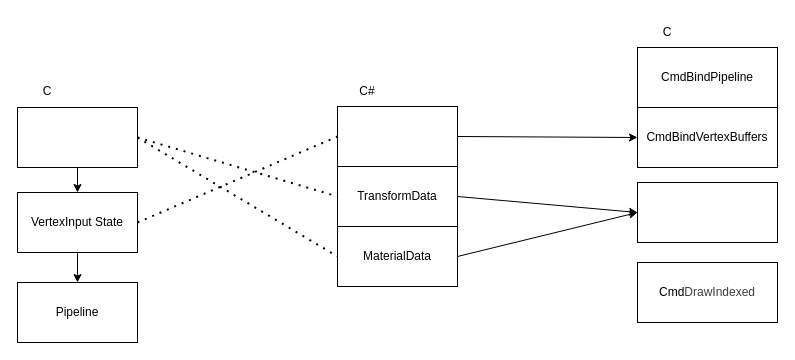
The diagram is 795 pixels wide and 360 high, and some of its shapes have lost their labels. The centre of each missing label's shape, as x and y in pixels:
BindDescriptorSets: the point at 707,212
MeshData: the point at 397,136
Shader Stages: the point at 77,137
